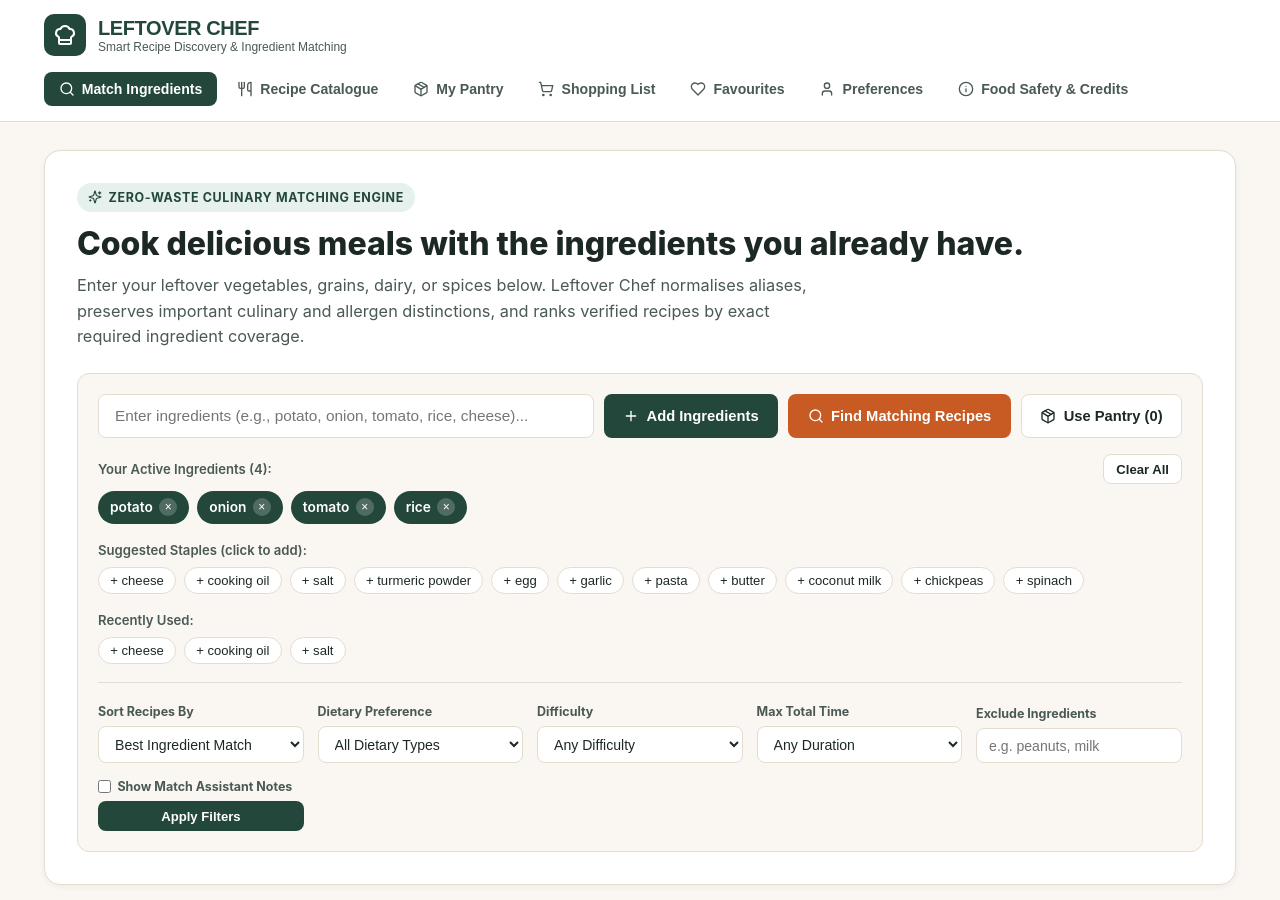
Test: Leftover Chef Frontend Verification Suite (TC-53 to TC-60) › TC-53: Completes the main ingredient-search workflow and splits comma-separated inputs into chips
Replace the text in the field named "Enter ingredients you have" with "garlic, spinach": (346, 416) [98,394,594,438]
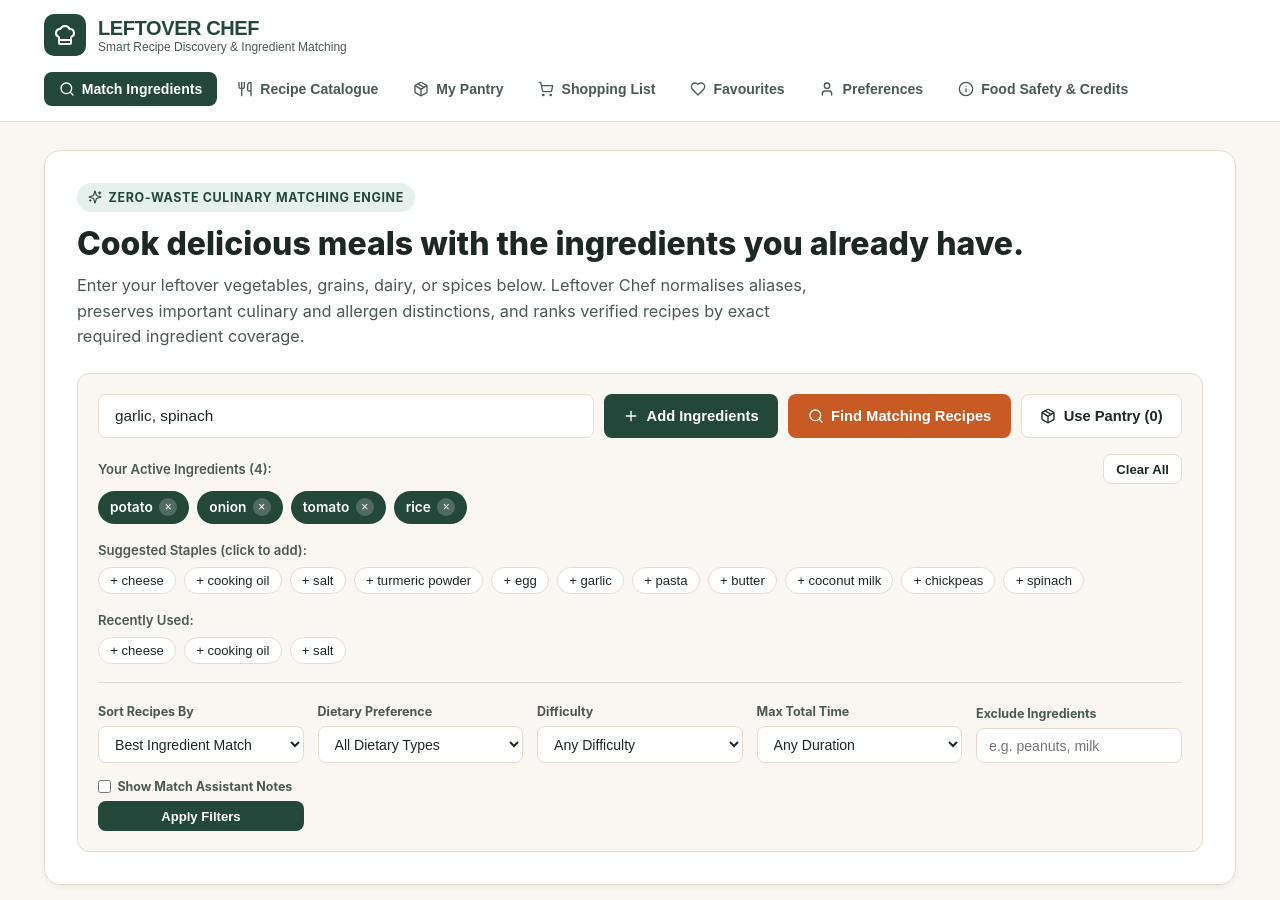
Click the button "Add Ingredients": (691, 416) [604,394,778,438]
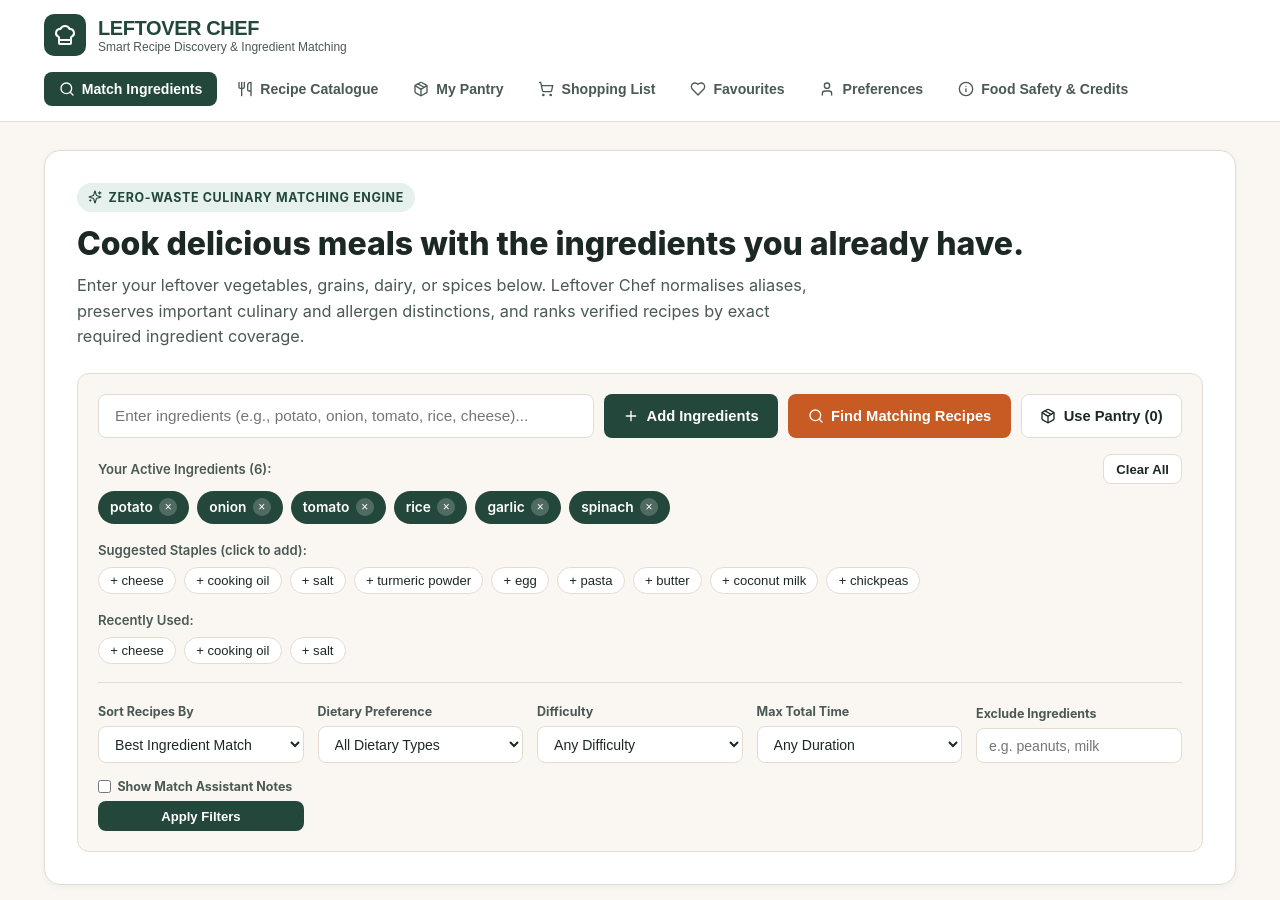
Expected: the button named "Remove garlic" is shown, [531,498,549,516]
Expected: the button named "Remove spinach" is shown, [640,498,658,516]
